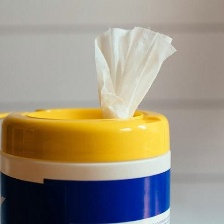plastic_box: (0, 102, 179, 223)
tissue: (90, 22, 182, 123)
